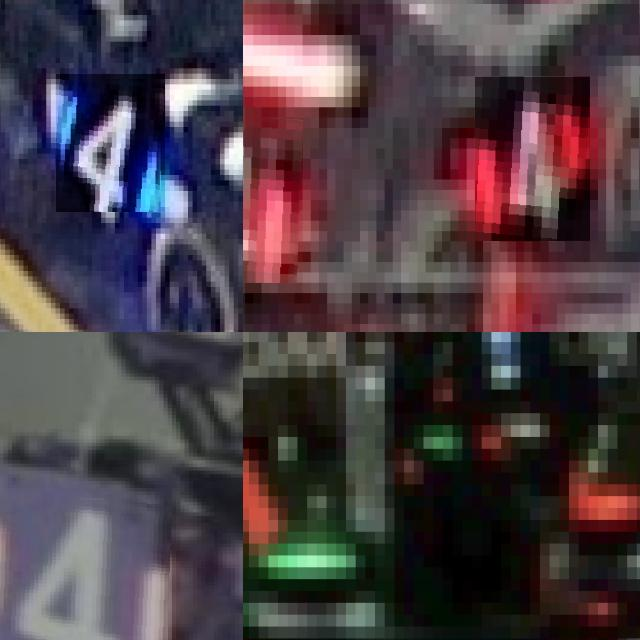B4: (56, 74, 165, 212)
R4: (0, 491, 171, 640), (475, 77, 590, 241), (243, 107, 302, 282)
